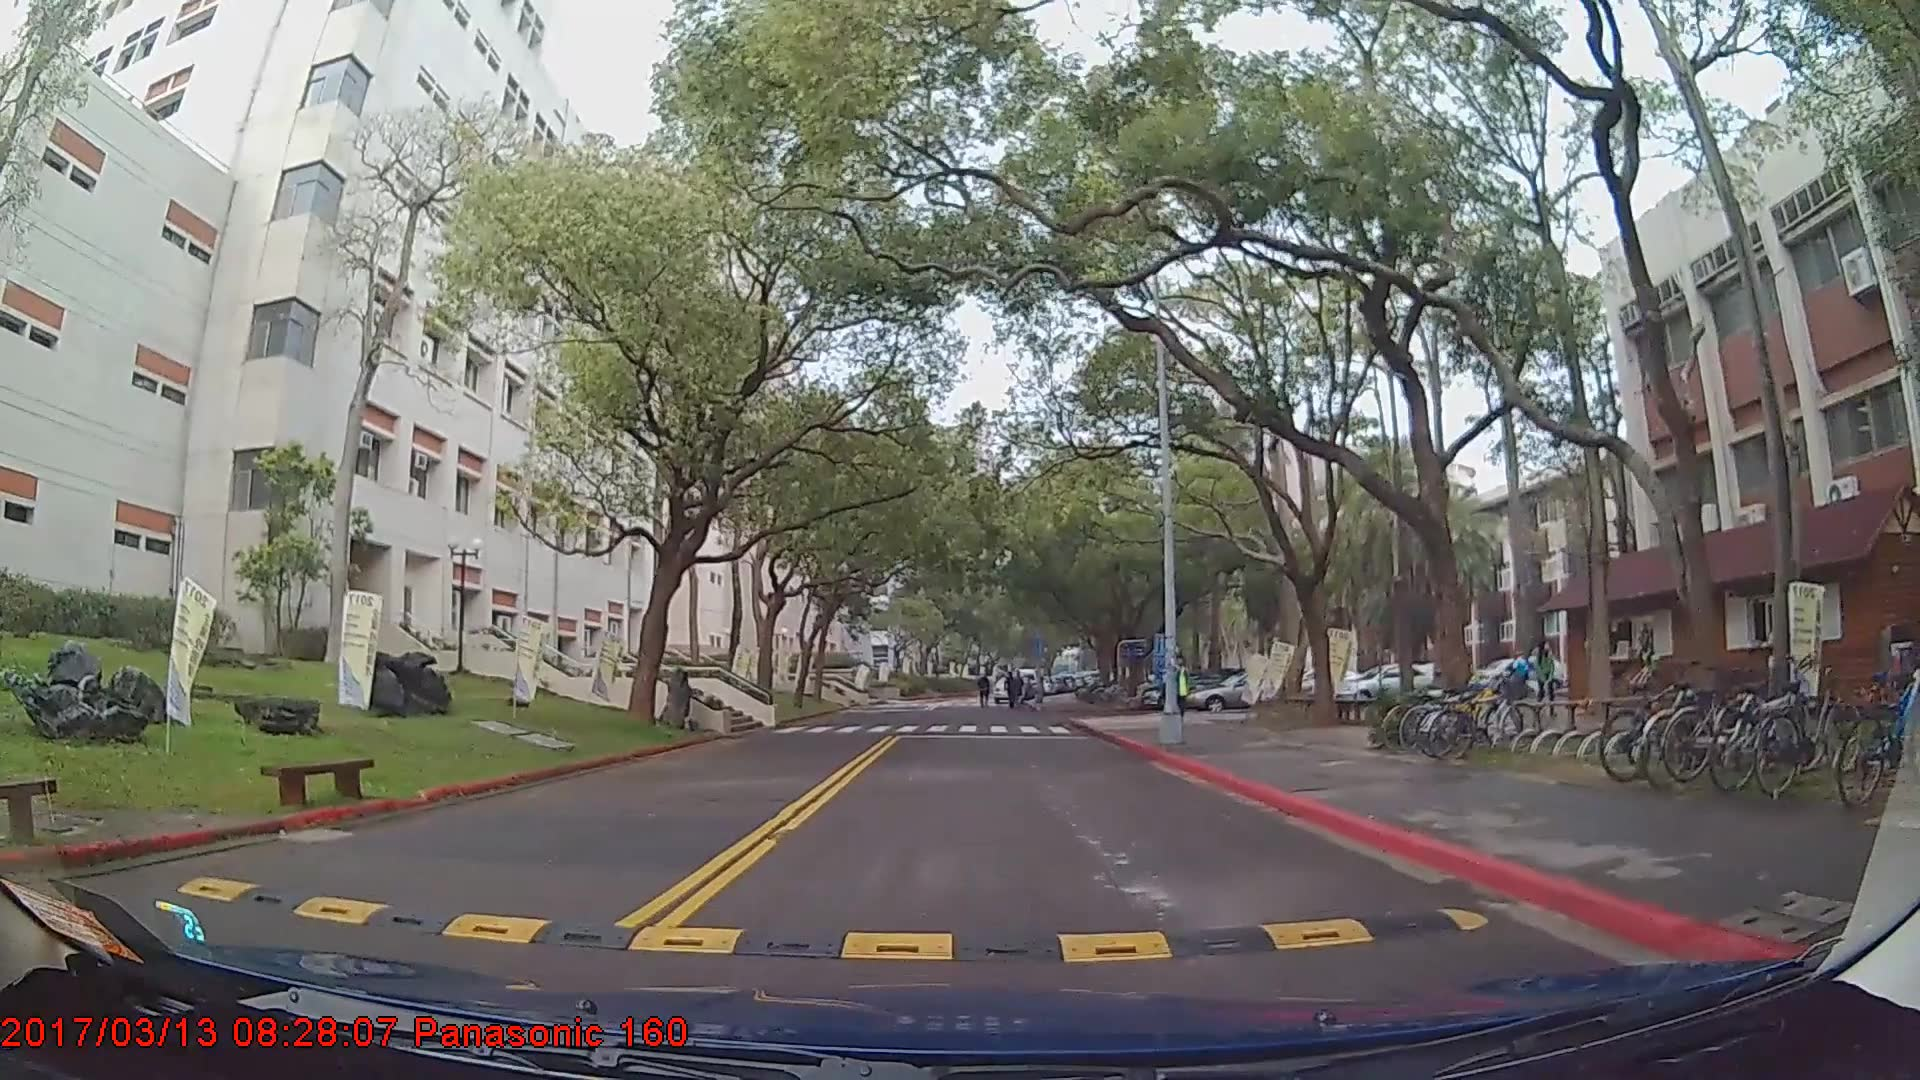vehicle: (1185, 670, 1316, 711), (1333, 659, 1441, 705)
